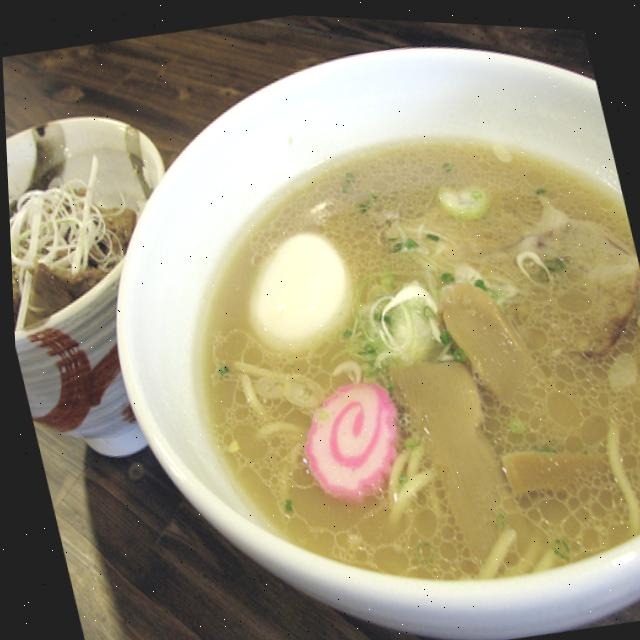面条主食: (2, 51, 640, 640)
